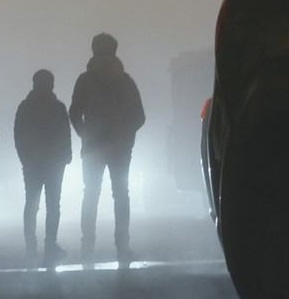person: (68, 31, 146, 262), (11, 68, 75, 260)
